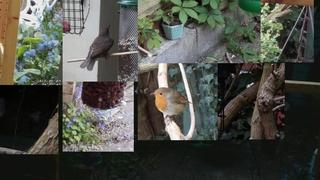robin: (150, 87, 194, 125)
starling: (79, 24, 114, 71)
